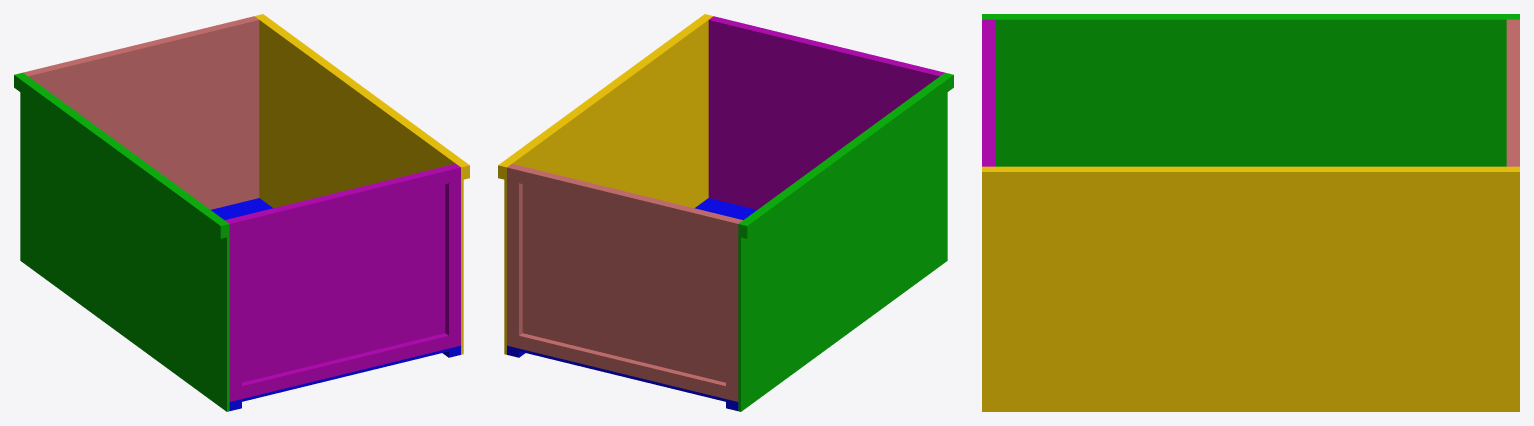
The model's file is result.glb.
3 views of the same model, side by side, from view 1: azimuth 30°, elevation 25°; view 2: azimuth 150°, elevation 25°; view 3: azimuth 270°, elevation 25° (orthographic). The views are drawn at different scales.
Visible parts, largest first — view 1: 68294d56-65f5-46aa-8708-43eeb1a2e22d__Box_6, a6553821-3148-4faa-b7e2-26db9bb7ba6b__Box_3, fe2284e0-8f14-4977-9aa3-0fa315d0fe00__undefined, d5af94d4-0e5b-4c36-b2b6-3d5f72ce932c__undefined, 6cfa7eef-9fd9-4f57-8e44-2550be19edec__Box_7, 3ed6cd94-c7fc-4857-96c9-4bd9aa9636b4__undefined, f011cde6-d757-455c-9d09-bbd734798c23__Box_5, 597fc1dc-8e4e-4146-a2b7-33ddc0da6deb__undefined, 1efca8da-d3fe-4a73-acb1-4f66405f2253__Box_4, cd7224cd-7d0a-47d7-a302-c120f8d8a59c__Box, ed81cd9f-c7e2-464e-9835-d498e6be7575__undefined, a5fe6d29-39b2-4402-b581-4645e4538e90__undefined; view 2: 68294d56-65f5-46aa-8708-43eeb1a2e22d__Box_6, fe2284e0-8f14-4977-9aa3-0fa315d0fe00__undefined, a6553821-3148-4faa-b7e2-26db9bb7ba6b__Box_3, d5af94d4-0e5b-4c36-b2b6-3d5f72ce932c__undefined, 6cfa7eef-9fd9-4f57-8e44-2550be19edec__Box_7, a5fe6d29-39b2-4402-b581-4645e4538e90__undefined, b8c3e06b-d452-4cf1-9c01-59d7789c87a4__undefined, 648934ee-d1c0-44fb-8bde-a90aea5d7eca__undefined, 6dbcbe68-992a-4c77-b991-8f8cd4783503__undefined, cd7224cd-7d0a-47d7-a302-c120f8d8a59c__Box, ed81cd9f-c7e2-464e-9835-d498e6be7575__undefined, 3ed6cd94-c7fc-4857-96c9-4bd9aa9636b4__undefined; view 3: d5af94d4-0e5b-4c36-b2b6-3d5f72ce932c__undefined, 68294d56-65f5-46aa-8708-43eeb1a2e22d__Box_6, ed81cd9f-c7e2-464e-9835-d498e6be7575__undefined, 6cfa7eef-9fd9-4f57-8e44-2550be19edec__Box_7, 3ed6cd94-c7fc-4857-96c9-4bd9aa9636b4__undefined, a5fe6d29-39b2-4402-b581-4645e4538e90__undefined, a6553821-3148-4faa-b7e2-26db9bb7ba6b__Box_3, fe2284e0-8f14-4977-9aa3-0fa315d0fe00__undefined.
Boxes of the visible parts, left/top/right/bottom form: 68294d56-65f5-46aa-8708-43eeb1a2e22d__Box_6: left=20, top=72, right=229, bottom=411; a6553821-3148-4faa-b7e2-26db9bb7ba6b__Box_3: left=225, top=164, right=456, bottom=382; fe2284e0-8f14-4977-9aa3-0fa315d0fe00__undefined: left=26, top=19, right=259, bottom=209; d5af94d4-0e5b-4c36-b2b6-3d5f72ce932c__undefined: left=254, top=15, right=463, bottom=354; 6cfa7eef-9fd9-4f57-8e44-2550be19edec__Box_7: left=14, top=73, right=226, bottom=238; 3ed6cd94-c7fc-4857-96c9-4bd9aa9636b4__undefined: left=239, top=168, right=448, bottom=233; f011cde6-d757-455c-9d09-bbd734798c23__Box_5: left=242, top=333, right=448, bottom=398; 597fc1dc-8e4e-4146-a2b7-33ddc0da6deb__undefined: left=445, top=165, right=460, bottom=348; 1efca8da-d3fe-4a73-acb1-4f66405f2253__Box_4: left=226, top=218, right=241, bottom=401; cd7224cd-7d0a-47d7-a302-c120f8d8a59c__Box: left=211, top=198, right=460, bottom=404; ed81cd9f-c7e2-464e-9835-d498e6be7575__undefined: left=257, top=14, right=469, bottom=179; a5fe6d29-39b2-4402-b581-4645e4538e90__undefined: left=35, top=19, right=245, bottom=71; 68294d56-65f5-46aa-8708-43eeb1a2e22d__Box_6: left=738, top=72, right=947, bottom=411; fe2284e0-8f14-4977-9aa3-0fa315d0fe00__undefined: left=511, top=164, right=742, bottom=382; a6553821-3148-4faa-b7e2-26db9bb7ba6b__Box_3: left=708, top=19, right=941, bottom=209; d5af94d4-0e5b-4c36-b2b6-3d5f72ce932c__undefined: left=504, top=15, right=713, bottom=354; 6cfa7eef-9fd9-4f57-8e44-2550be19edec__Box_7: left=741, top=73, right=953, bottom=238; a5fe6d29-39b2-4402-b581-4645e4538e90__undefined: left=519, top=168, right=728, bottom=233; b8c3e06b-d452-4cf1-9c01-59d7789c87a4__undefined: left=519, top=333, right=725, bottom=398; 648934ee-d1c0-44fb-8bde-a90aea5d7eca__undefined: left=507, top=165, right=522, bottom=348; 6dbcbe68-992a-4c77-b991-8f8cd4783503__undefined: left=726, top=218, right=741, bottom=401; cd7224cd-7d0a-47d7-a302-c120f8d8a59c__Box: left=507, top=198, right=756, bottom=404; ed81cd9f-c7e2-464e-9835-d498e6be7575__undefined: left=498, top=14, right=710, bottom=179; 3ed6cd94-c7fc-4857-96c9-4bd9aa9636b4__undefined: left=722, top=19, right=932, bottom=71; d5af94d4-0e5b-4c36-b2b6-3d5f72ce932c__undefined: left=982, top=166, right=1519, bottom=411; 68294d56-65f5-46aa-8708-43eeb1a2e22d__Box_6: left=982, top=18, right=1519, bottom=166; ed81cd9f-c7e2-464e-9835-d498e6be7575__undefined: left=982, top=168, right=1519, bottom=188; 6cfa7eef-9fd9-4f57-8e44-2550be19edec__Box_7: left=982, top=14, right=1519, bottom=17; 3ed6cd94-c7fc-4857-96c9-4bd9aa9636b4__undefined: left=982, top=27, right=991, bottom=158; a5fe6d29-39b2-4402-b581-4645e4538e90__undefined: left=1510, top=27, right=1519, bottom=158; a6553821-3148-4faa-b7e2-26db9bb7ba6b__Box_3: left=991, top=19, right=995, bottom=166; fe2284e0-8f14-4977-9aa3-0fa315d0fe00__undefined: left=1506, top=19, right=1510, bottom=166.
Size of the model in its own units: 732 by 526 by 1052.
